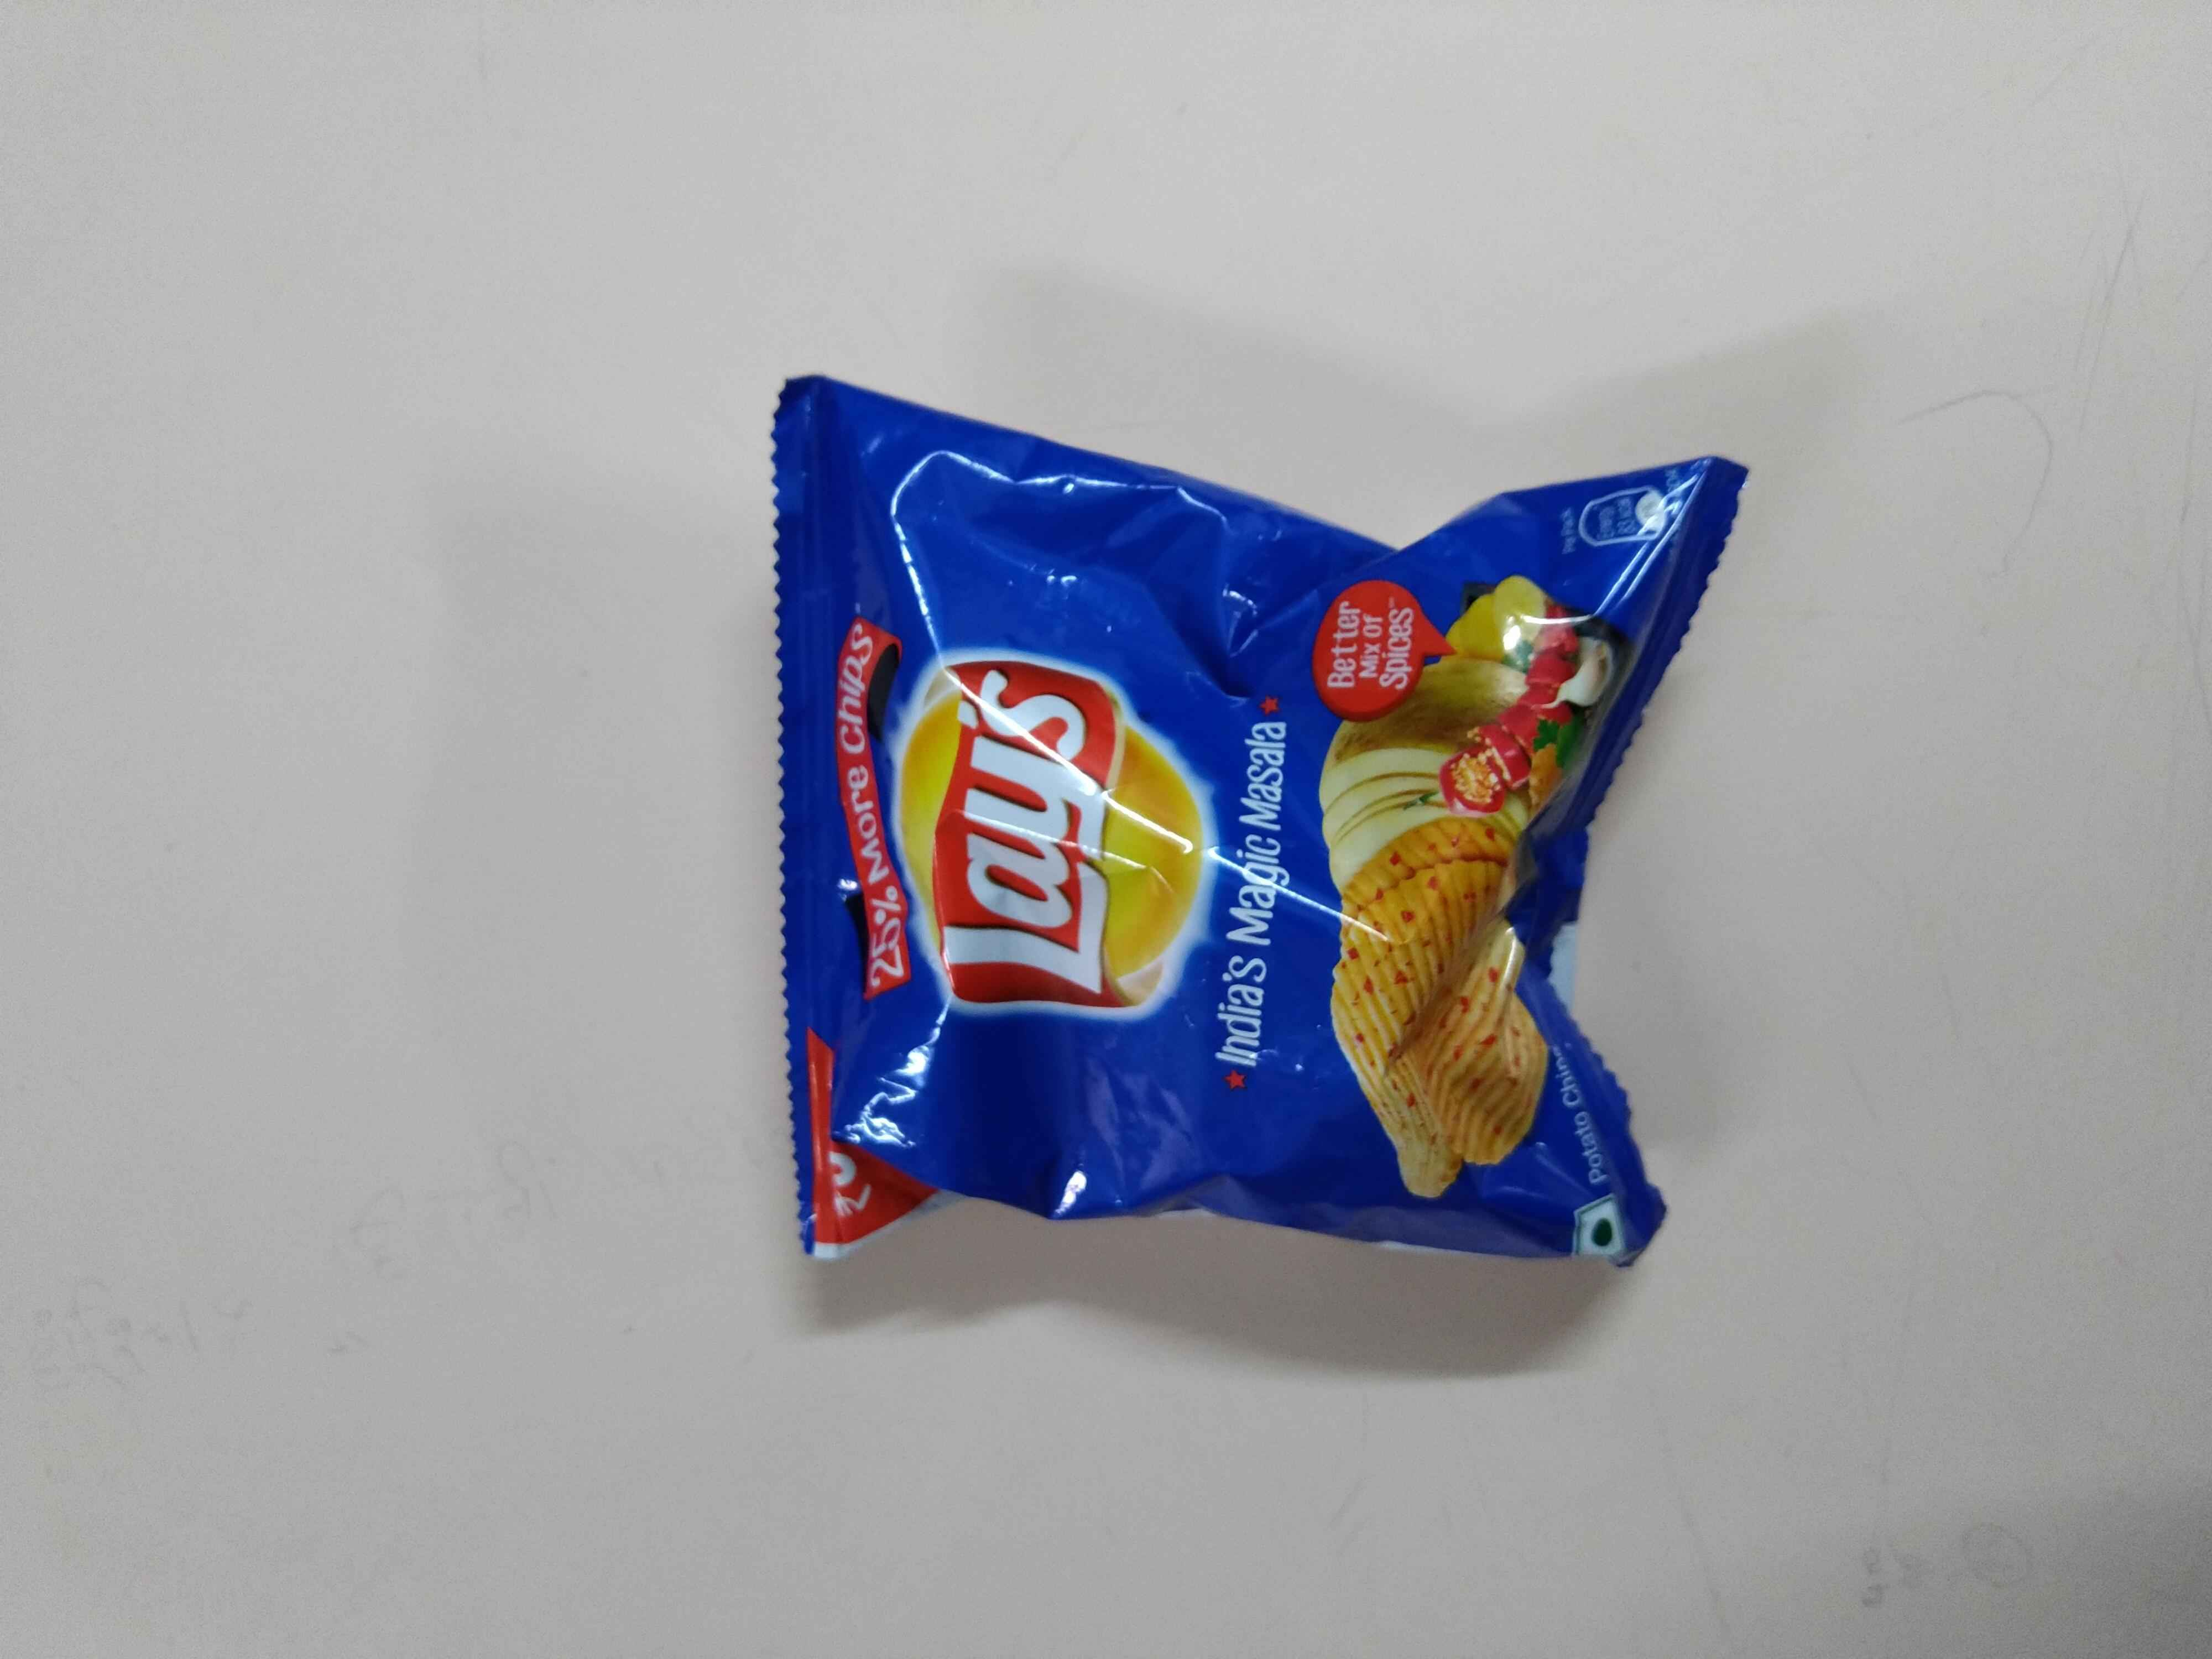Lays: (902, 645, 1209, 1039)
